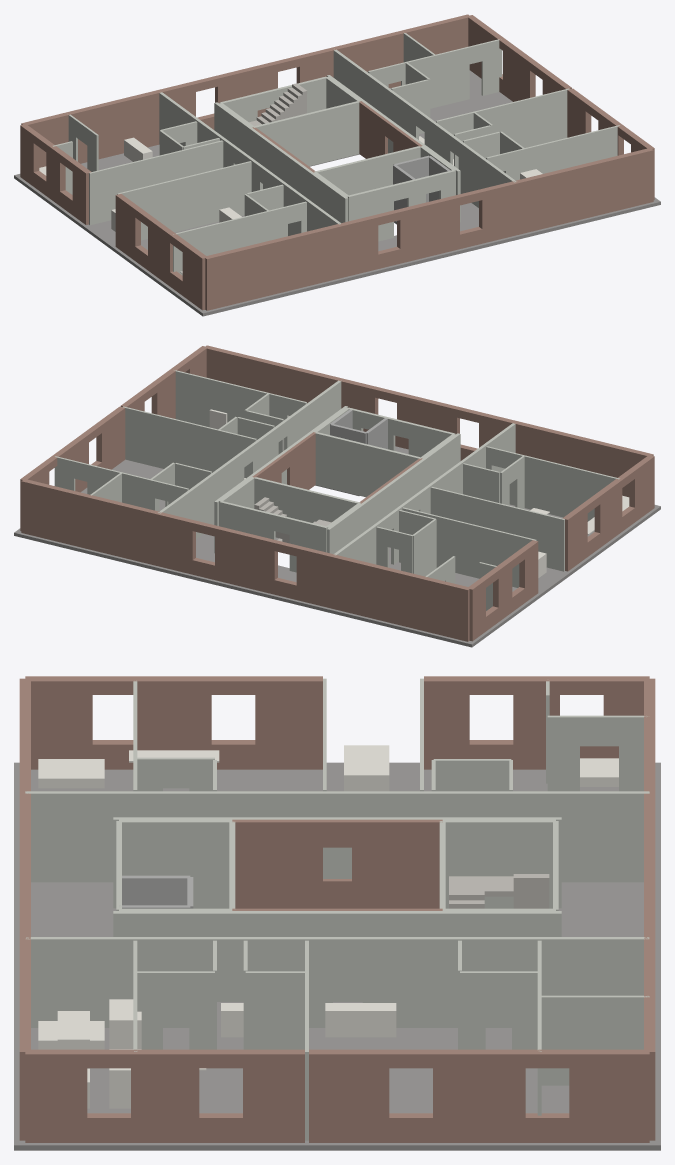
Rendered from floor_06.glb.
The picture shows the model from 3 angles, top to bottom: view 1: azimuth 30°, elevation 25°; view 2: azimuth 150°, elevation 25°; view 3: azimuth 270°, elevation 25°; orthographic projection. The views are drawn at different scales.
Parts seen in each view (by area): view 1: F06_walls-col, F06_walls_brick-col, F06_slabs-col, F06_walls_conc-col, F06_stairs, F06_furniture-col; view 2: F06_walls-col, F06_walls_brick-col, F06_slabs-col, F06_walls_conc-col, F06_furniture-col, F06_stairs; view 3: F06_walls-col, F06_walls_brick-col, F06_slabs-col, F06_furniture-col, F06_stairs, F06_walls_conc-col.
Boxes of the visible parts, <box> form: F06_walls-col: <box>53,33,619,275</box>; F06_walls_brick-col: <box>20,14,654,310</box>; F06_slabs-col: <box>14,70,660,316</box>; F06_walls_conc-col: <box>393,155,450,210</box>; F06_stairs: <box>249,83,307,126</box>; F06_furniture-col: <box>39,136,542,273</box>; F06_walls-col: <box>54,370,619,610</box>; F06_walls_brick-col: <box>20,345,654,641</box>; F06_slabs-col: <box>14,446,660,647</box>; F06_walls_conc-col: <box>330,409,387,449</box>; F06_furniture-col: <box>209,409,629,577</box>; F06_stairs: <box>254,497,331,543</box>; F06_walls-col: <box>25,678,649,1140</box>; F06_walls_brick-col: <box>19,676,655,1142</box>; F06_slabs-col: <box>14,762,660,1150</box>; F06_furniture-col: <box>38,745,618,1108</box>; F06_stairs: <box>449,874,549,908</box>; F06_walls_conc-col: <box>119,875,193,908</box>.
Size of what is drawn, in the model's own units: 28 by 3.38 by 20.
